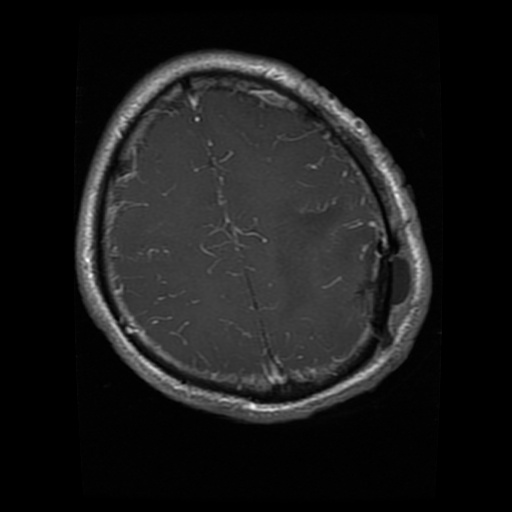glioma: (356, 240, 409, 345)
